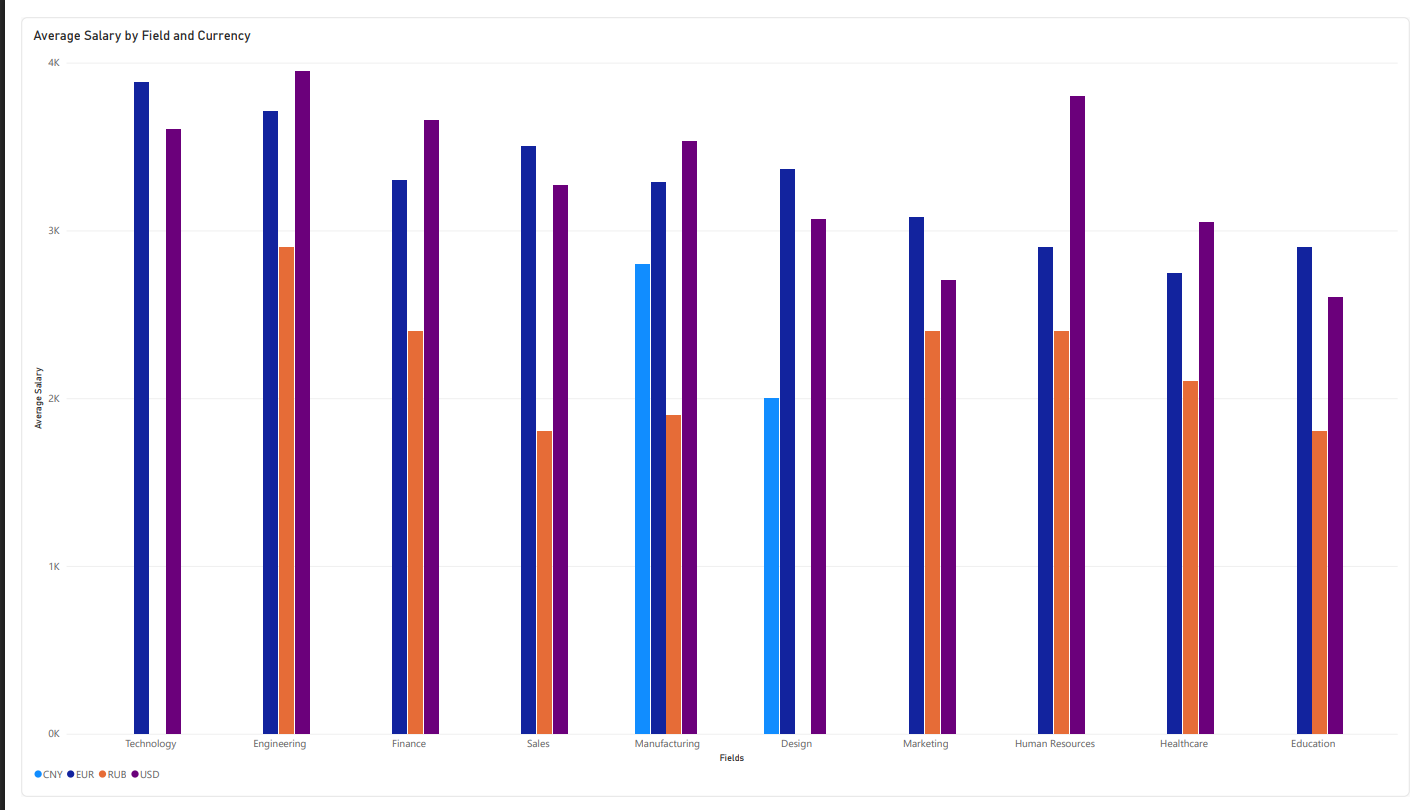

The page's visual inventory and layout, read from the dashboard file:
{"tool":"powerbi","page":{"name":"Page 1","canvas":[1920,1080],"ordinal":0},"visuals":[{"type":"lineClusteredColumnComboChart","title":"Average Salary by Field and Currency","fields":{"Category":["DIM_FIELD.FieldName"],"Series":["DIM_CURRENCY.CurrencyCode"],"Y":["Avg(FACT_JOBS.Salary)"]},"box":[0,0,1920,1080],"z":0}]}

Visuals, with their boxes in screenshot pixels (x1, y1, x2, y2), scaled from the page's 1920x1080 canvas onto the 1416x810 screenshot:
"Average Salary by Field and Currency" lineClusteredColumnComboChart: box(0, 0, 1415, 809)
